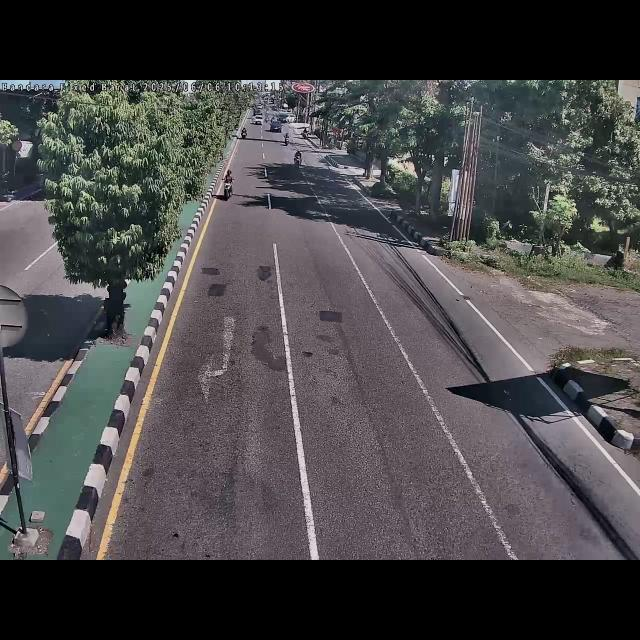Motor: (221, 168, 235, 202)
